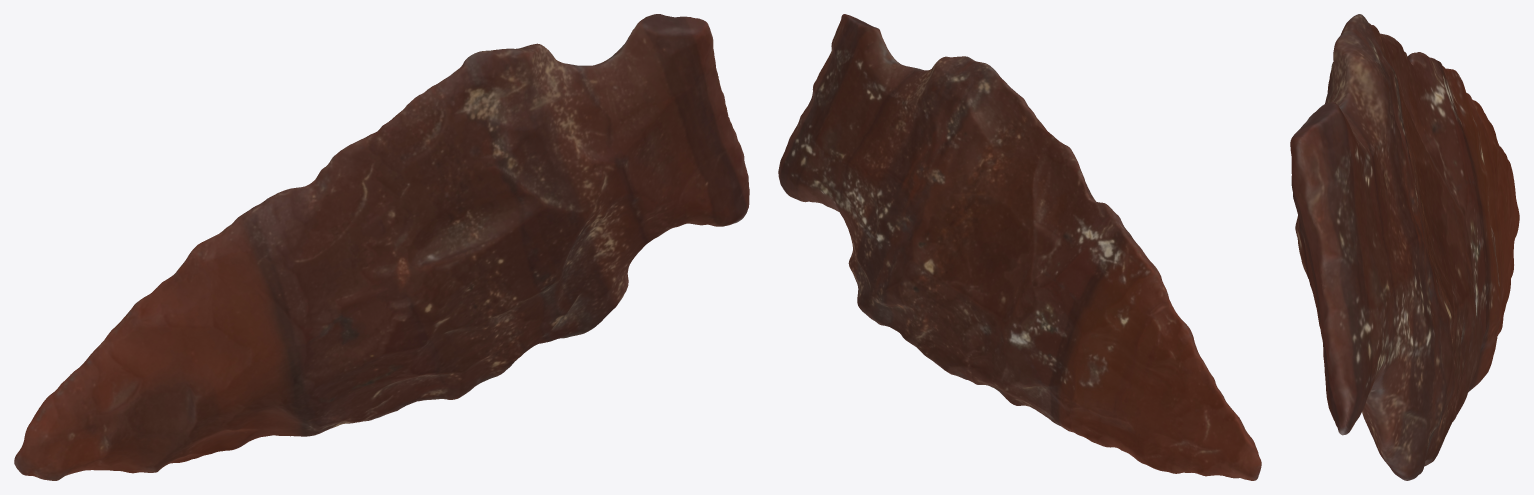
Rendered from flecha.glb.
The picture shows the model from 3 angles, left to right: view 1: azimuth 30°, elevation 25°; view 2: azimuth 150°, elevation 25°; view 3: azimuth 270°, elevation 25°; orthographic projection. The views are drawn at different scales.
Parts seen in each view (by area): view 1: Object_2; view 2: Object_2; view 3: Object_2.
Part boxes in pixels (x1=…): Object_2: x1=14, y1=14, x2=749, y2=480; Object_2: x1=778, y1=14, x2=1261, y2=480; Object_2: x1=1290, y1=14, x2=1519, y2=480.
Size of the model in its own units: 0.9843 by 0.5618 by 0.2445.
Materials: 1 (1 with a texture image).
